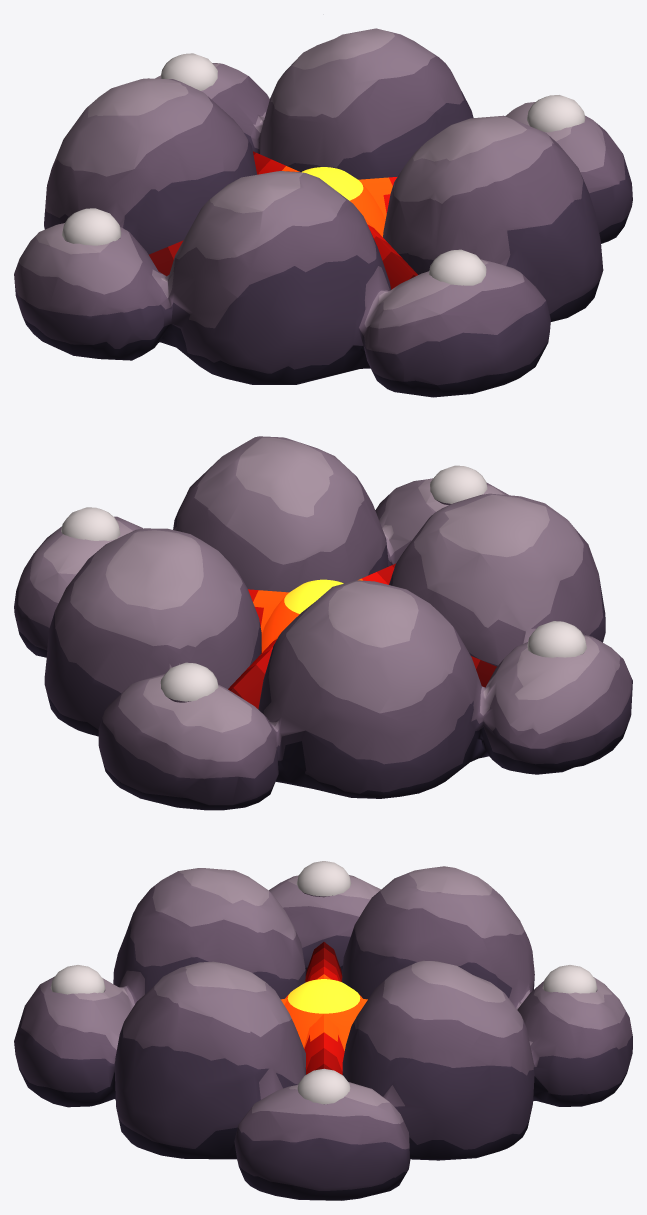
The model's file is botany_stone_157.glb.
3 renders of one model, top to bottom at view 1: azimuth 30°, elevation 25°; view 2: azimuth 150°, elevation 25°; view 3: azimuth 270°, elevation 25°, orthographic. The views are drawn at different scales.
Parts seen in each view (by area): view 1: stone, core, bead1, bead3, bead2, bead0, arm3, arm0, arm2; view 2: stone, core, bead0, bead1, bead2, bead3, arm1, arm0; view 3: stone, core, arm0, bead1, bead3, bead2, bead0, arm2.
Boxes of the visible parts, x1,y1,x2,y2 form: stone: (14, 28, 632, 397); core: (301, 167, 385, 236); bead1: (62, 208, 121, 245); bead3: (527, 95, 585, 132); bead2: (429, 249, 486, 285); bead0: (160, 53, 217, 90); arm3: (364, 218, 417, 289); arm0: (358, 177, 397, 220); arm2: (149, 240, 183, 276); stone: (14, 436, 632, 810); core: (261, 579, 343, 652); bead0: (160, 662, 218, 702); bead1: (527, 621, 586, 657); bead2: (430, 465, 487, 504); bead3: (61, 507, 120, 540); arm1: (228, 633, 280, 708); arm0: (248, 589, 288, 633); stone: (14, 866, 632, 1200); core: (284, 979, 363, 1049); arm0: (304, 1014, 344, 1074); bead1: (296, 861, 351, 897); bead3: (297, 1068, 350, 1104); bead2: (50, 965, 105, 994); bead0: (542, 965, 597, 993); arm2: (305, 942, 342, 982).
Bounding box in the file's own units: 17.89 × 7.6 × 17.99.
